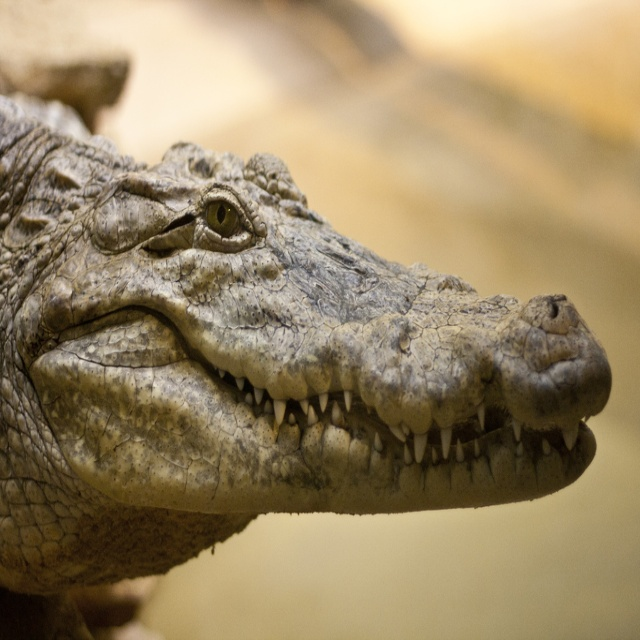Crocodile: (0, 94, 612, 595)
